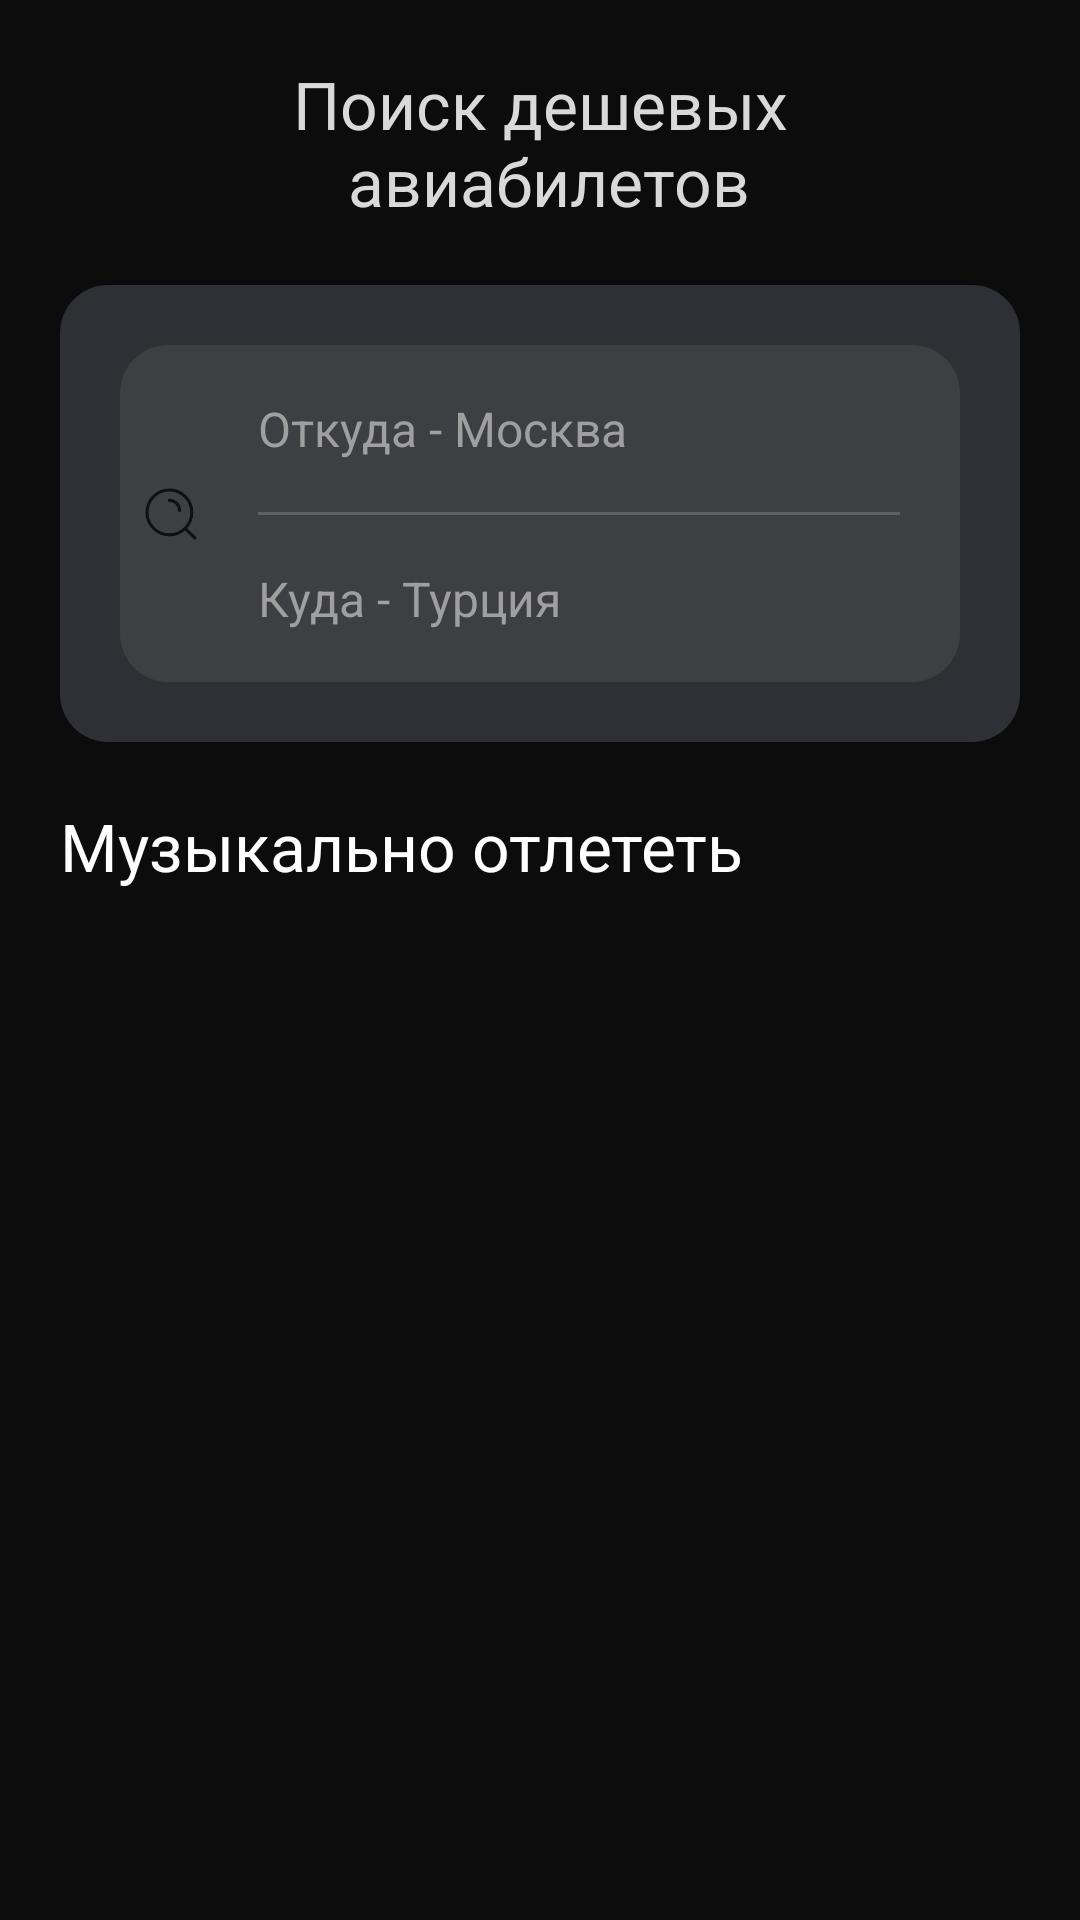

Point at icon controls on the screen. Image size 1080 x 1920, points as (x=x, y=y).
search: (x=170, y=513)
